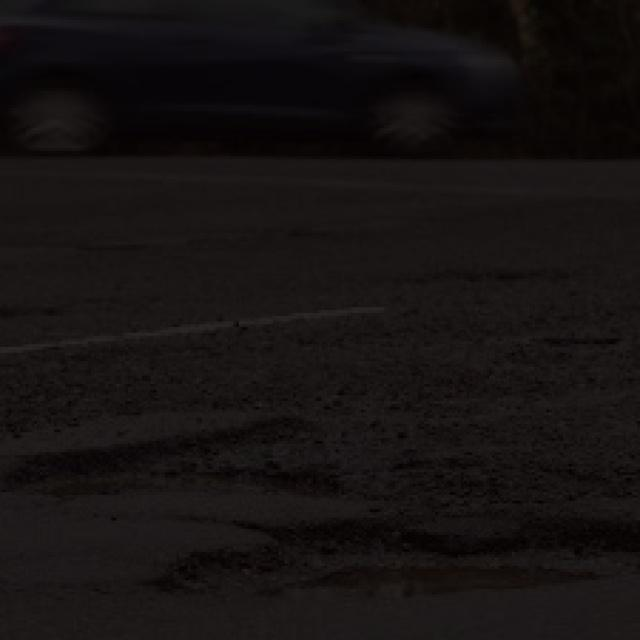Pothole: (145, 502, 640, 640), (0, 414, 343, 501)
